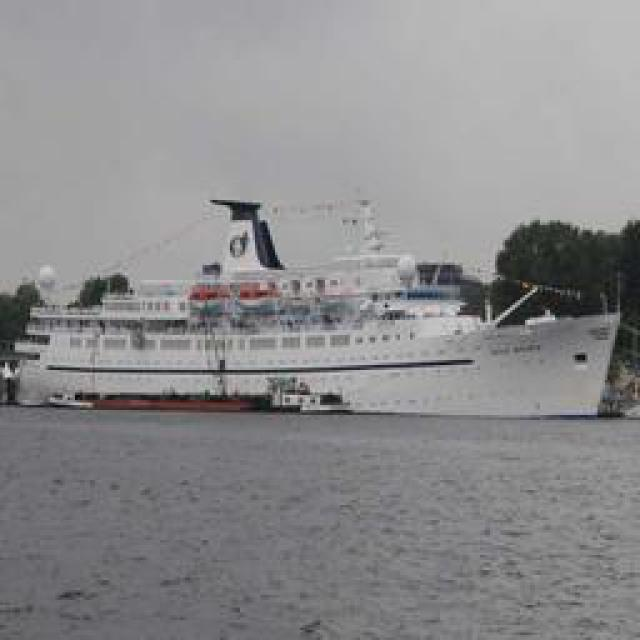Ship: (21, 205, 614, 418)
